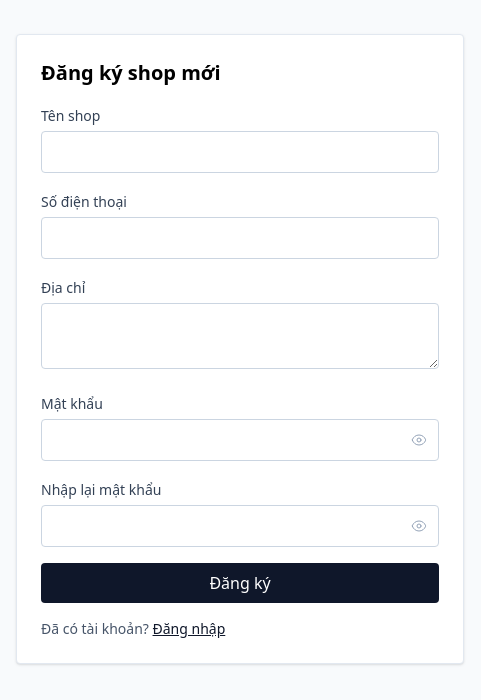
Scenario: Register page › rejects mismatched confirm password client-side
Type "Shop A" into the field labelled "Tên shop".
click(240, 152); type("Shop A")  # box [41,131,439,173]
Type "0900000001" into the field labelled "Số điện thoại".
click(240, 238); type("0900000001")  # box [41,217,439,259]
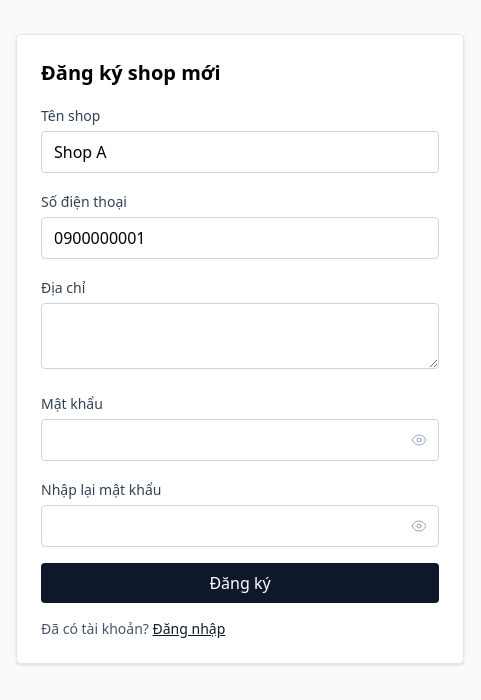
Type "123 Đường ABC, Quận 1" into the text box labelled "Địa chỉ".
click(240, 336); type("123 Đường ABC, Quận 1")  # box [41,303,439,369]
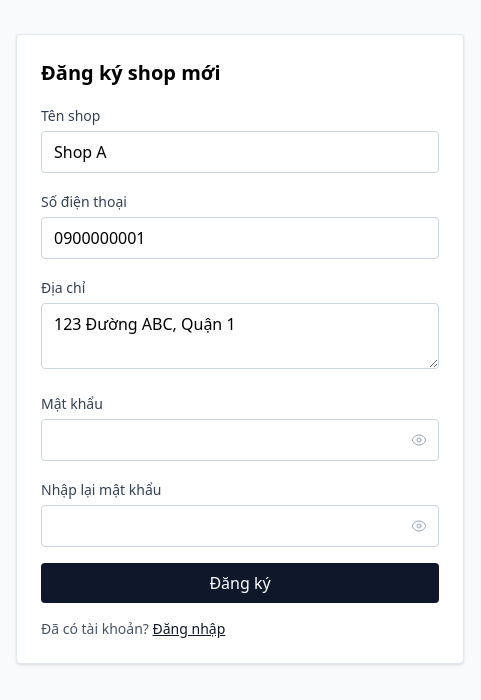
Type "secret1" into the password field labelled "Mật khẩu".
click(240, 440); type("secret1")  # box [41,419,439,461]
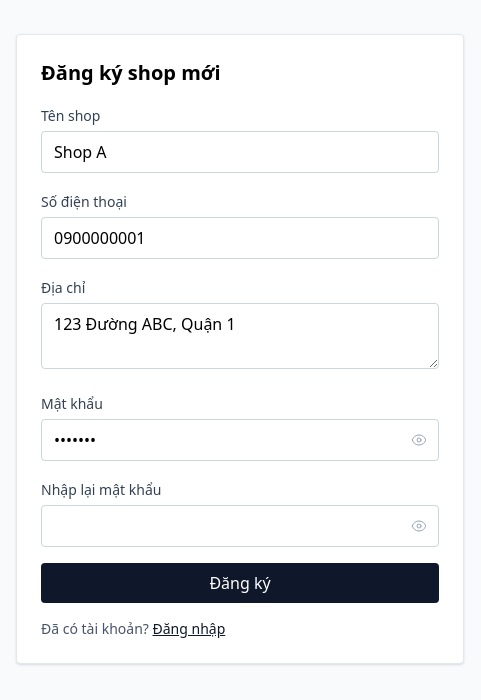
Type "secret1" into the password field labelled "Nhập lại mật khẩu".
click(240, 526); type("secret1")  # box [41,505,439,547]
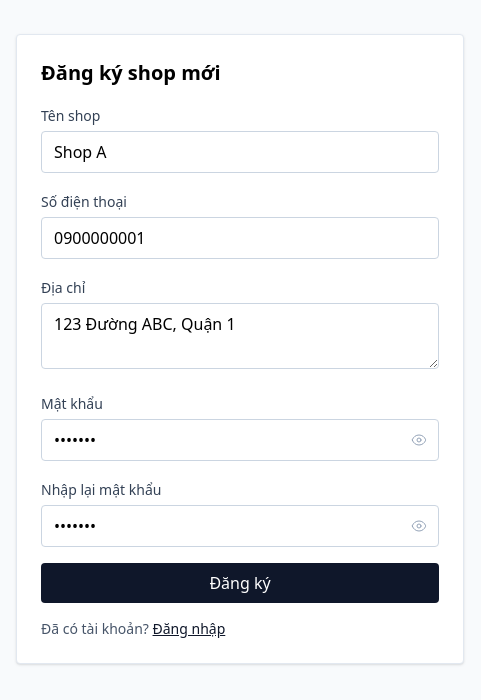
Type "khac-mat-khau" into the password field labelled "Nhập lại mật khẩu".
click(240, 526); type("khac-mat-khau")  # box [41,505,439,547]
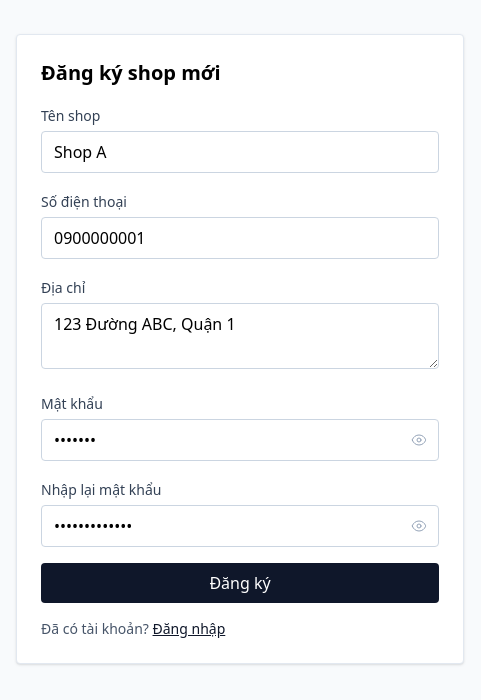
Click the button "Đăng ký".
click(240, 583)  # box [41,563,439,603]
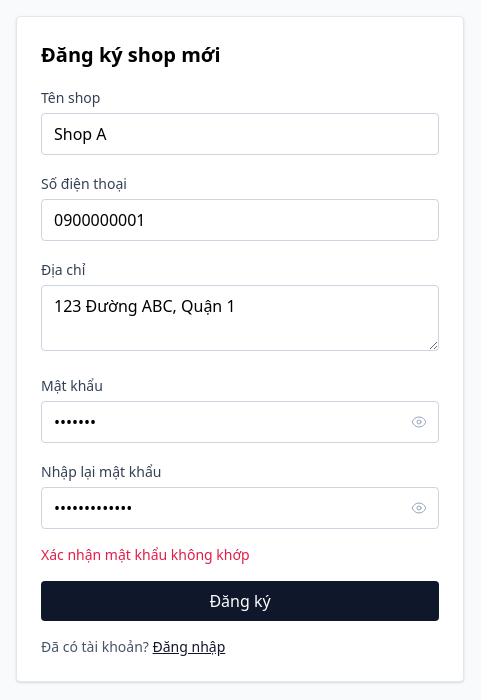
Check: the message reads "Xác nhận mật khẩu không khớp", box [41,545,250,564]
